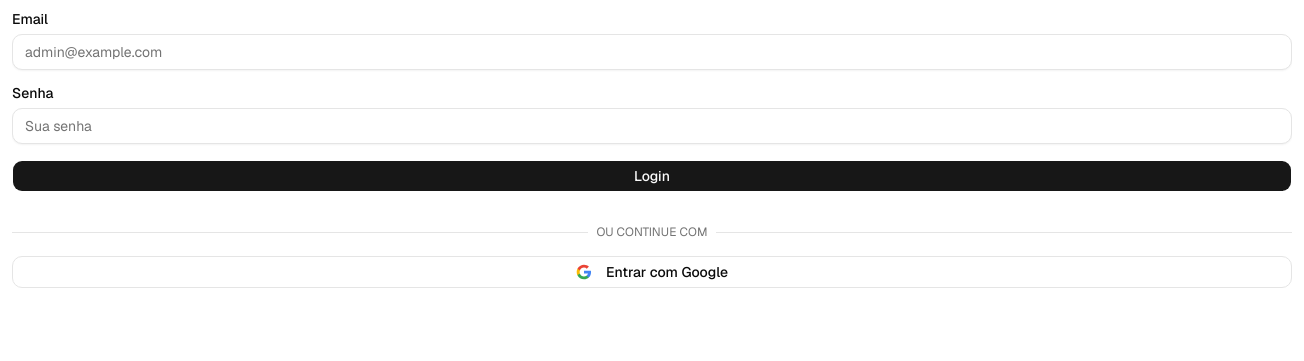
Test: AdminLoginForm › shows validation error on invalid email
Step 1. Type "invalid-email" into the field labelled "Email" → (652, 52), box x1=12 y1=34 x2=1292 y2=70
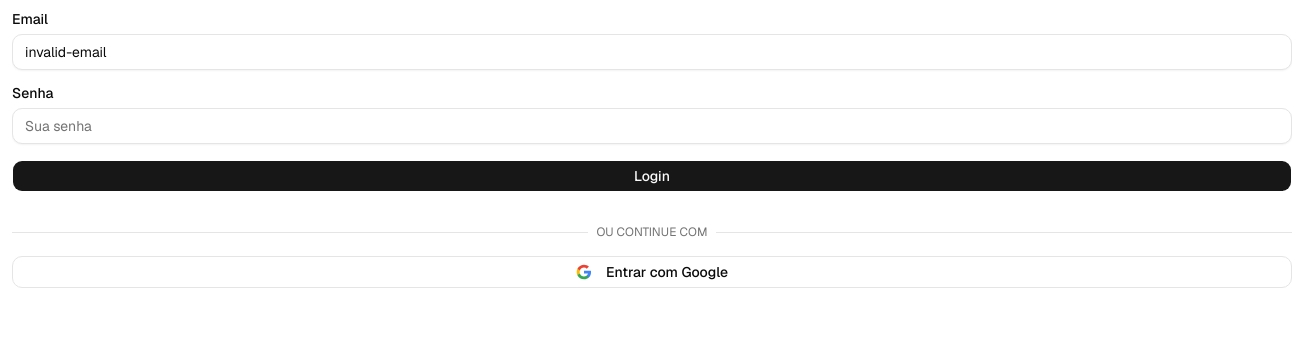
Step 2. Click the button "Login" → (652, 176), box x1=12 y1=160 x2=1292 y2=192
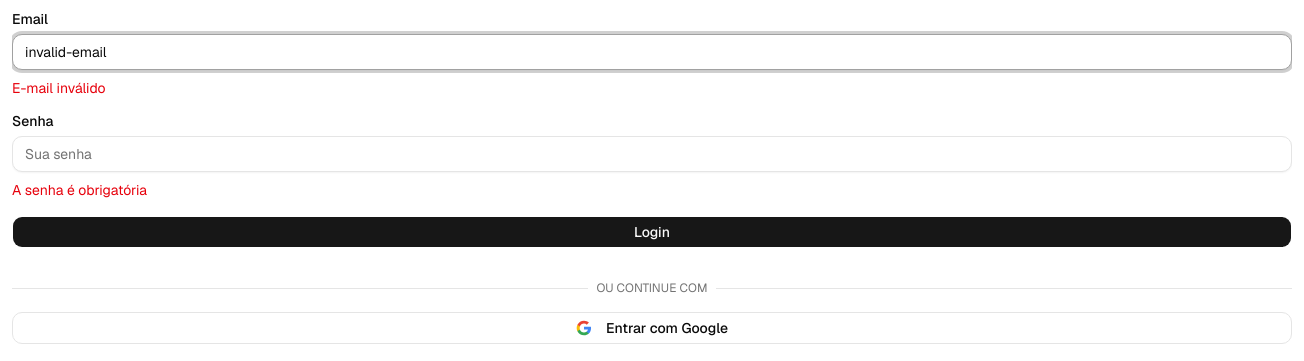
expect the text "E-mail inválido" is shown: met, box x1=12 y1=79 x2=106 y2=97
